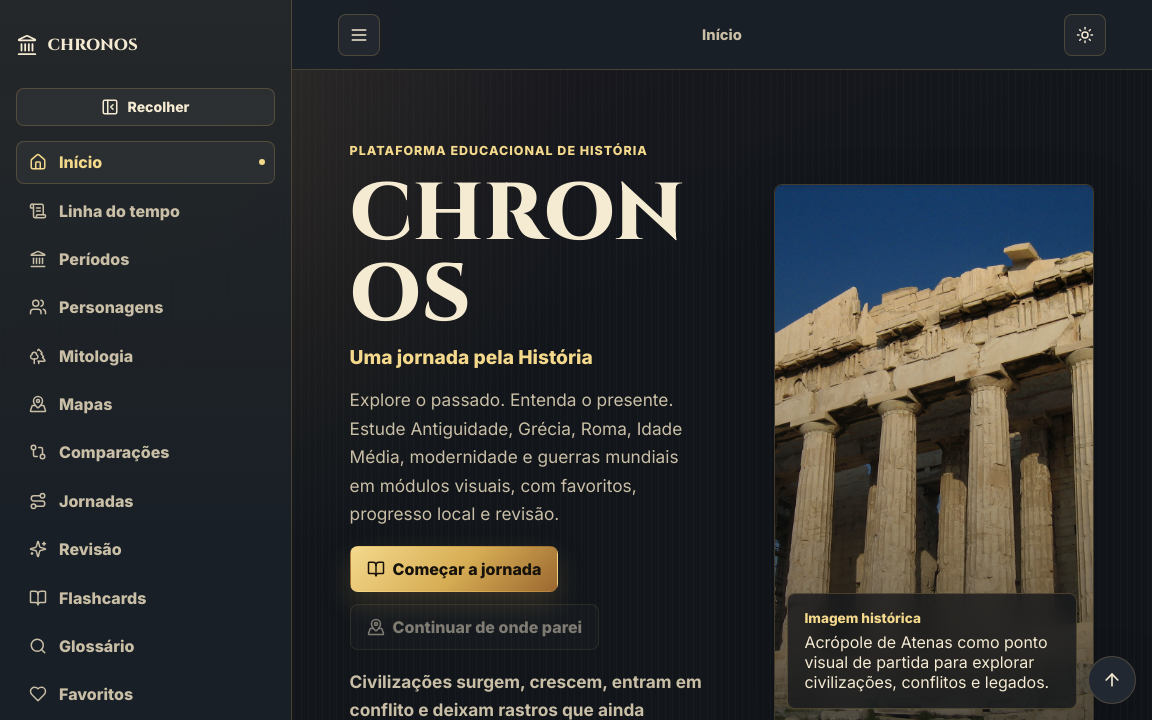
Test: rotas e navegação › abre menu móvel pelo botão hambúrguer
Expected: the heading "Chronos Uma jornada pela História" is shown, [350, 171, 705, 369]
Click the button named "Abrir menu".
click(359, 35)  # box [338, 14, 380, 56]
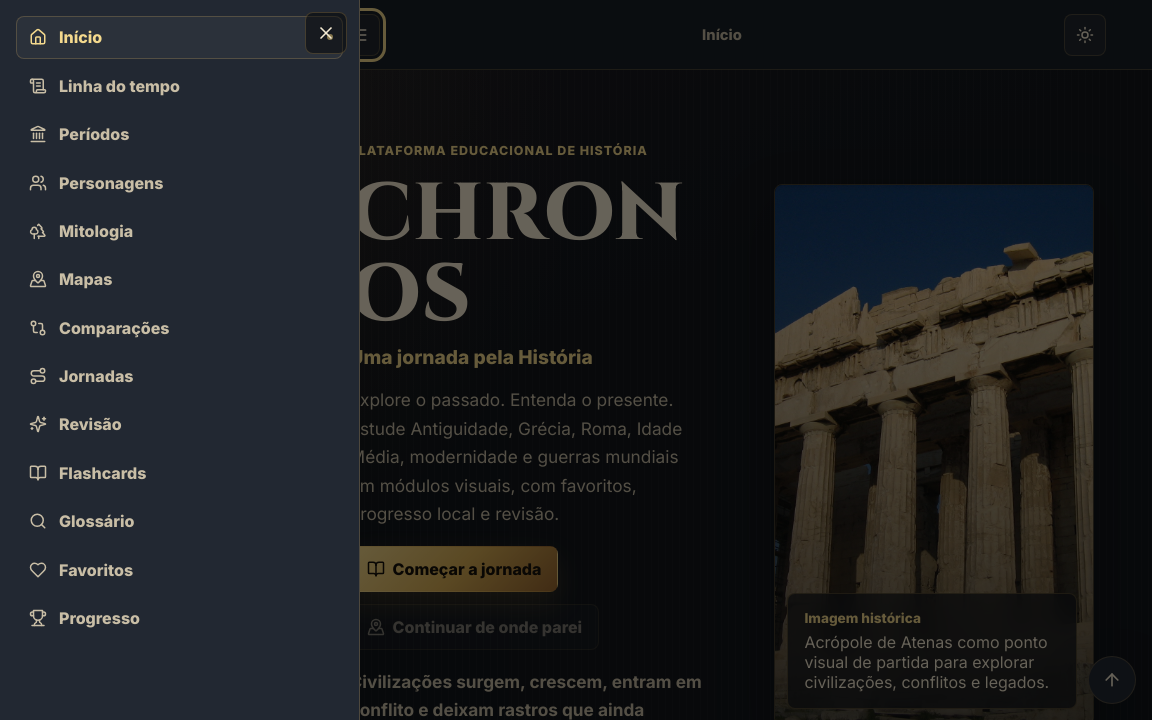
Result: the navigation bar named "Menu móvel" is shown at [0, 0, 360, 719]
